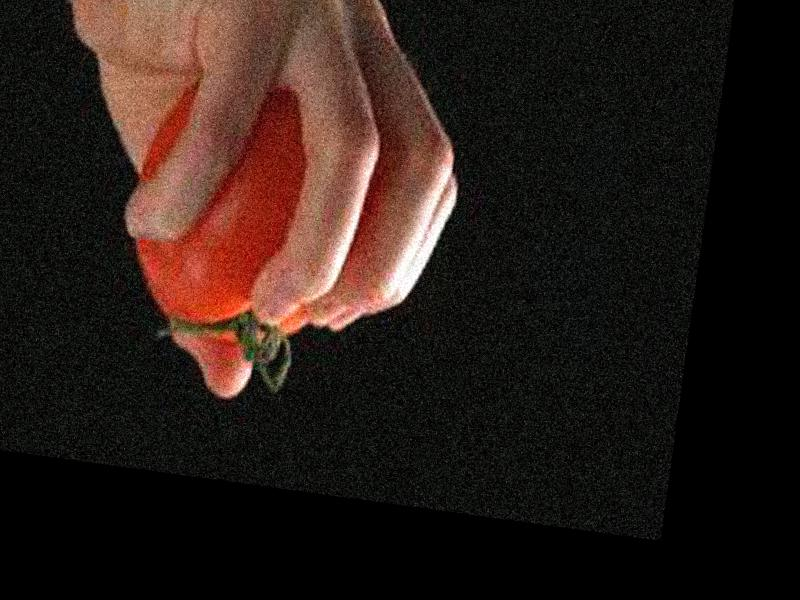Tomato: (121, 63, 343, 340)
